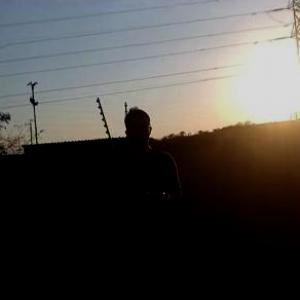follow: (110, 103, 187, 299)
